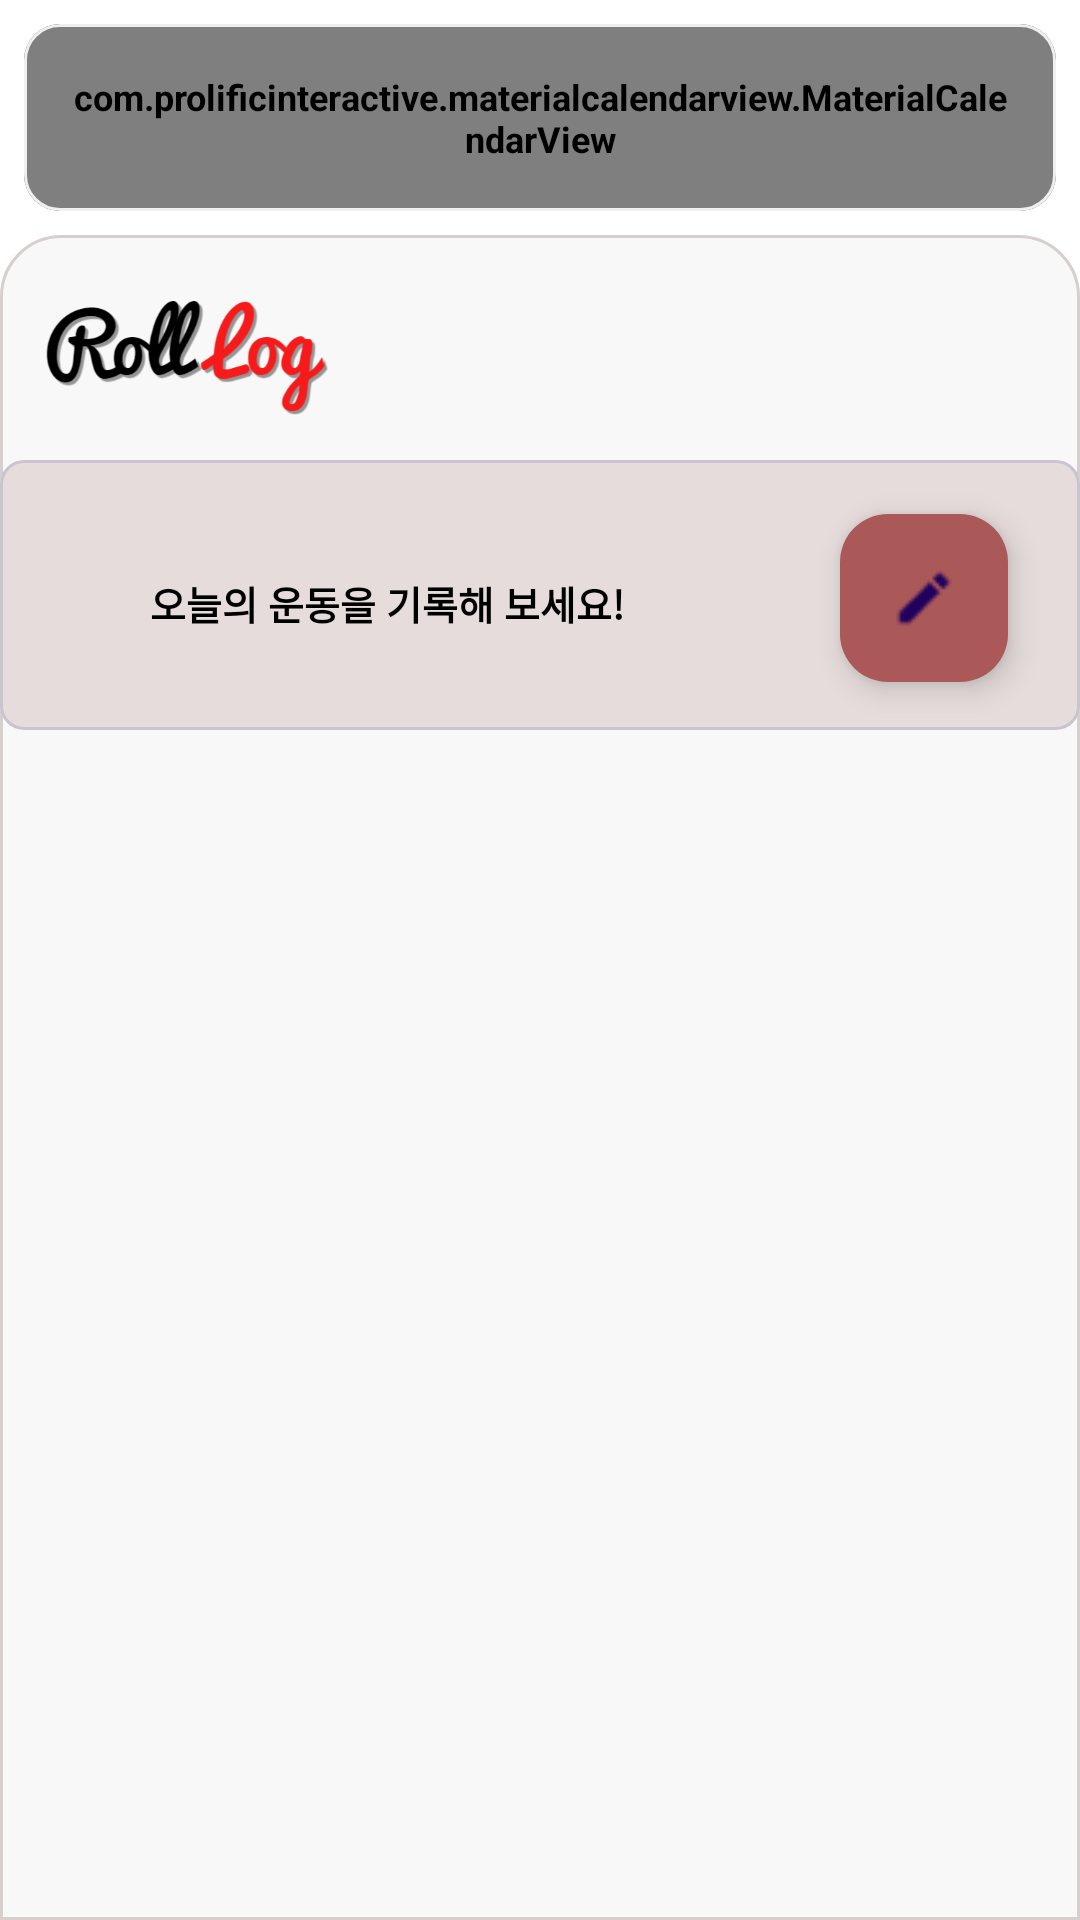

Icons on this 1080 × 1920 Android screen, each with the point to tap as point (x, y):
edit: point (924, 598)
